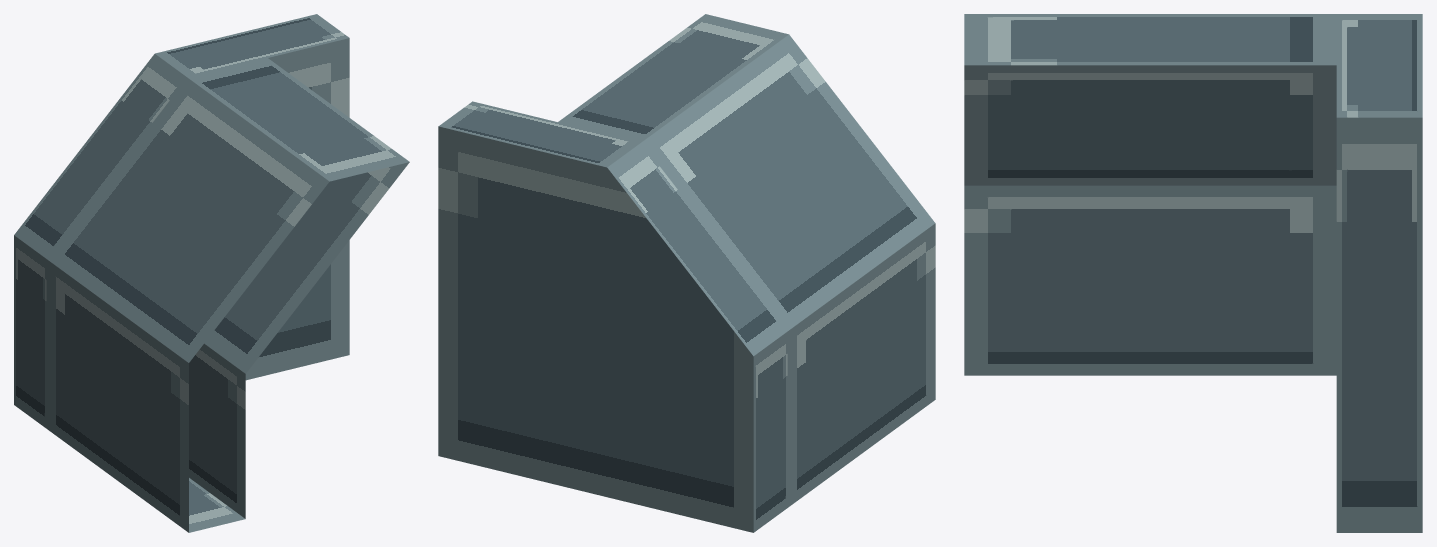
The model's file is casing_d5_front_x-2_y1.obj.
3 renders of one model, left to right at view 1: azimuth 30°, elevation 25°; view 2: azimuth 150°, elevation 25°; view 3: azimuth 270°, elevation 25°, orthographic. The views are drawn at different scales.
Parts seen in each view (by area): view 1: d5_front_x-2_y1; view 2: d5_front_x-2_y1; view 3: d5_front_x-2_y1.
Boxes of the visible parts, bbox=[...] form: d5_front_x-2_y1: bbox=[14, 14, 409, 532]; d5_front_x-2_y1: bbox=[438, 14, 935, 532]; d5_front_x-2_y1: bbox=[964, 14, 1422, 532].
Size of the model in its own units: 1 by 1 by 1.
